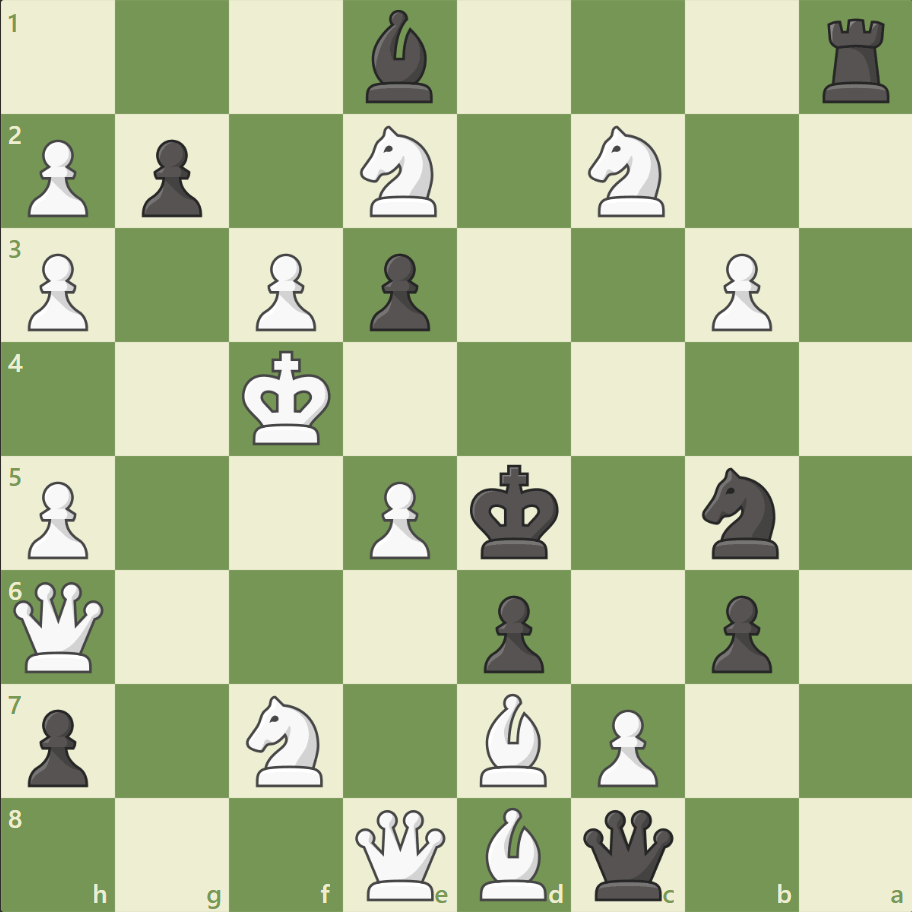B: (471, 801, 555, 904), (471, 687, 555, 790)
K: (238, 344, 338, 452)
N: (351, 121, 449, 223), (238, 688, 335, 791), (579, 121, 676, 223)
P: (20, 473, 95, 564), (701, 246, 776, 337), (247, 246, 322, 337), (20, 246, 95, 337), (20, 132, 95, 223), (588, 700, 662, 791), (361, 473, 435, 564)
Q: (10, 576, 109, 676), (351, 804, 450, 903)
b: (358, 6, 442, 109)
k: (465, 458, 565, 566)
n: (692, 461, 789, 564)
p: (20, 700, 95, 791), (701, 586, 776, 677), (474, 586, 549, 677), (133, 132, 208, 223), (361, 246, 435, 337)
q: (578, 804, 677, 903)
r: (814, 12, 897, 109)
